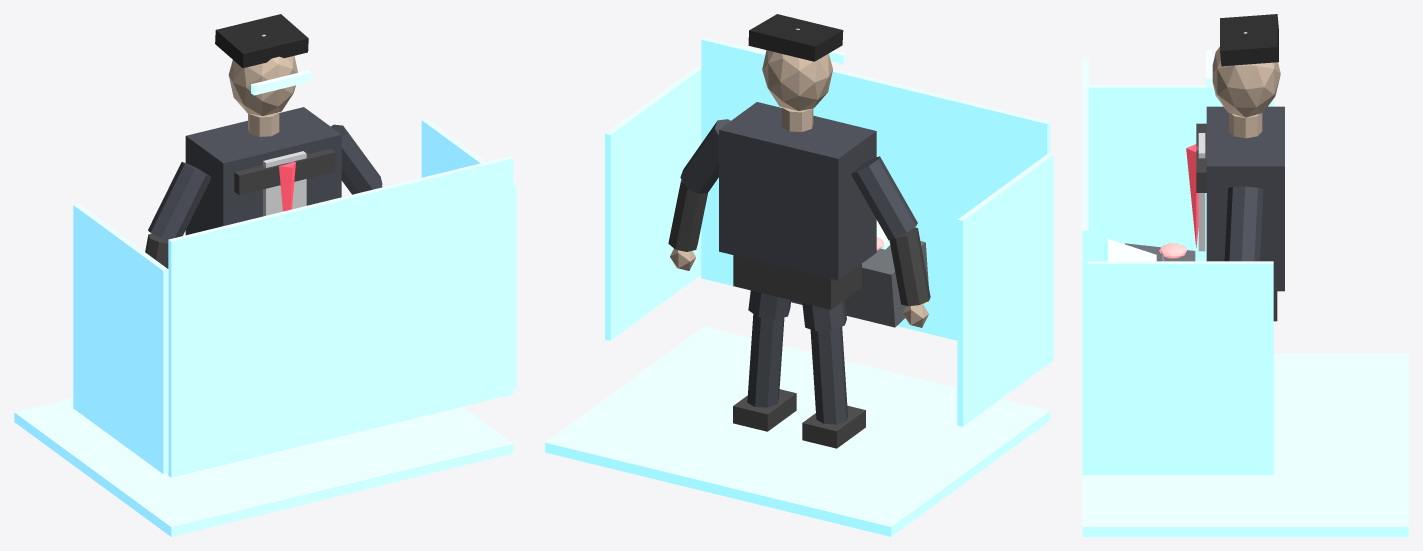
File: director_vance.glb
The picture shows the model from 3 angles, left to right: view 1: azimuth 30°, elevation 25°; view 2: azimuth 150°, elevation 25°; view 3: azimuth 270°, elevation 25°; orthographic projection. The views are drawn at different scales.
Parts seen in each view (by area): view 1: zenith_front_glass_wall, zenith_glass_suite_floor_plate, zenith_left_glass_panel, vance_torso, vance_slick_hair_swept_plate, zenith_right_glass_panel, vance_left_upper_arm, vance_head, vance_chest_plate, vance_right_upper_arm, vance_white_shirt_panel, vance_blue_visor_glasses (+2 smaller); view 2: zenith_glass_suite_floor_plate, zenith_front_glass_wall, vance_torso, zenith_left_glass_panel, zenith_right_glass_panel, vance_pelvis, hazard_control_console_body, vance_head, vance_slick_hair_swept_plate, vance_left_lower_leg, vance_right_lower_leg, vance_left_upper_arm (+8 smaller); view 3: zenith_right_glass_panel, zenith_glass_suite_floor_plate, zenith_left_glass_panel, vance_torso, vance_head, vance_slick_hair_swept_plate, zenith_front_glass_wall, vance_right_upper_arm, hazard_console_holo_screen, vance_red_tie, vance_neck, vance_white_shirt_panel (+2 smaller).
Part boxes in pixels (bbox=[...]): zenith_front_glass_wall: bbox=[168, 156, 513, 477]; zenith_glass_suite_floor_plate: bbox=[14, 398, 513, 536]; zenith_left_glass_panel: bbox=[73, 204, 168, 473]; vance_torso: bbox=[185, 107, 341, 235]; vance_slick_hair_swept_plate: bbox=[215, 14, 308, 68]; zenith_right_glass_panel: bbox=[421, 119, 516, 388]; vance_left_upper_arm: bbox=[148, 162, 210, 241]; vance_head: bbox=[228, 34, 297, 116]; vance_chest_plate: bbox=[234, 148, 335, 195]; vance_right_upper_arm: bbox=[331, 124, 382, 194]; vance_white_shirt_panel: bbox=[263, 151, 306, 216]; vance_blue_visor_glasses: bbox=[251, 70, 311, 95]; zenith_glass_suite_floor_plate: bbox=[545, 326, 1050, 536]; zenith_front_glass_wall: bbox=[701, 37, 1050, 340]; vance_torso: bbox=[719, 102, 876, 280]; zenith_left_glass_panel: bbox=[957, 153, 1053, 426]; zenith_right_glass_panel: bbox=[605, 67, 701, 340]; vance_pelvis: bbox=[733, 255, 861, 309]; hazard_control_console_body: bbox=[791, 241, 928, 327]; vance_head: bbox=[762, 28, 832, 110]; vance_slick_hair_swept_plate: bbox=[748, 14, 843, 61]; vance_left_lower_leg: bbox=[810, 326, 847, 424]; vance_right_lower_leg: bbox=[747, 314, 784, 407]; vance_left_upper_arm: bbox=[851, 156, 917, 240]; zenith_right_glass_panel: bbox=[1087, 261, 1273, 474]; zenith_glass_suite_floor_plate: bbox=[1082, 353, 1408, 536]; zenith_left_glass_panel: bbox=[1088, 85, 1273, 261]; vance_torso: bbox=[1206, 106, 1284, 291]; vance_head: bbox=[1212, 32, 1280, 117]; vance_slick_hair_swept_plate: bbox=[1220, 14, 1278, 66]; zenith_front_glass_wall: bbox=[1082, 57, 1088, 475]; vance_right_upper_arm: bbox=[1224, 186, 1263, 261]; hazard_console_holo_screen: bbox=[1104, 239, 1156, 261]; vance_red_tie: bbox=[1186, 144, 1205, 247]; vance_neck: bbox=[1229, 113, 1262, 138]; vance_white_shirt_panel: bbox=[1198, 133, 1205, 251].
Size of the model in its own units: 2.28 by 2.49 by 1.75.
